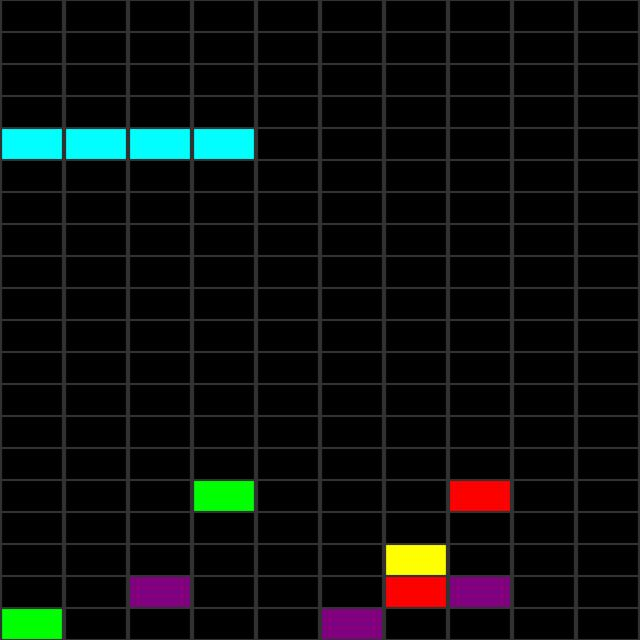Tetrimino_Z: (2, 129, 254, 160)
